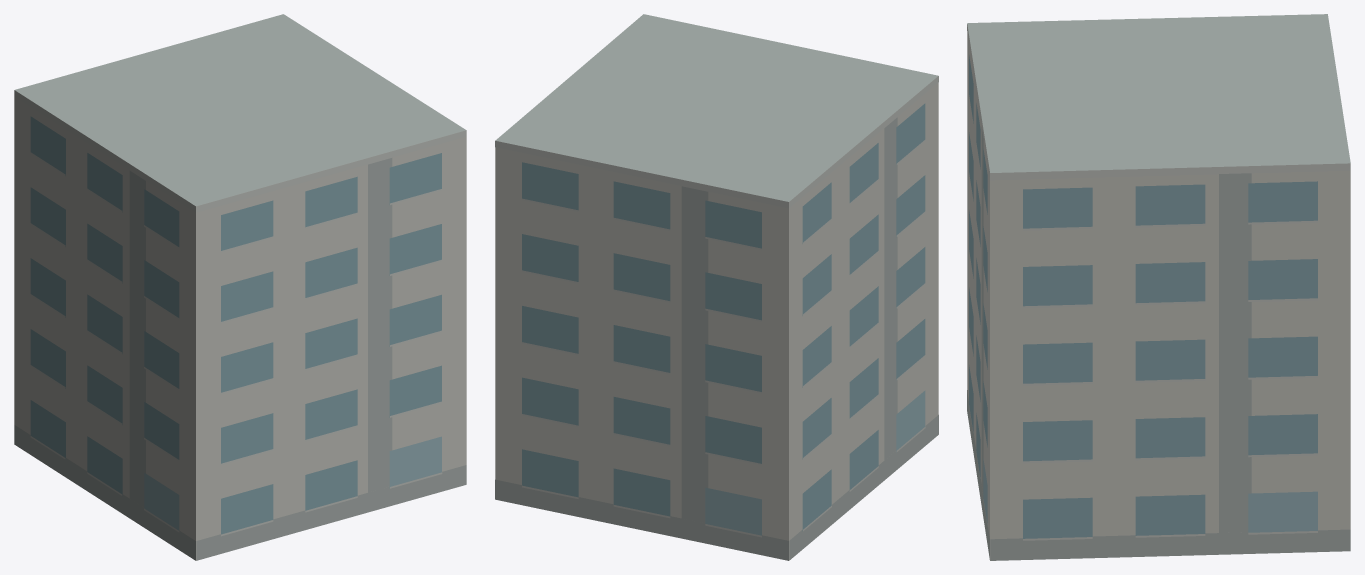
File: survey-upis-32884988.glb
3 renders of one model, left to right at view 1: azimuth 30°, elevation 25°; view 2: azimuth 150°, elevation 25°; view 3: azimuth 270°, elevation 25°, orthographic. The views are drawn at different scales.
Visible parts, largest first — view 1: survey-upis-32884988.tmp; view 2: survey-upis-32884988.tmp; view 3: survey-upis-32884988.tmp.
Part boxes in pixels (left/top/right/bottom): survey-upis-32884988.tmp: left=14, top=14, right=466, bottom=560; survey-upis-32884988.tmp: left=495, top=14, right=938, bottom=560; survey-upis-32884988.tmp: left=967, top=14, right=1350, bottom=560.
Bounding box in the file's own units: 11.62 × 13.2 × 11.84.
